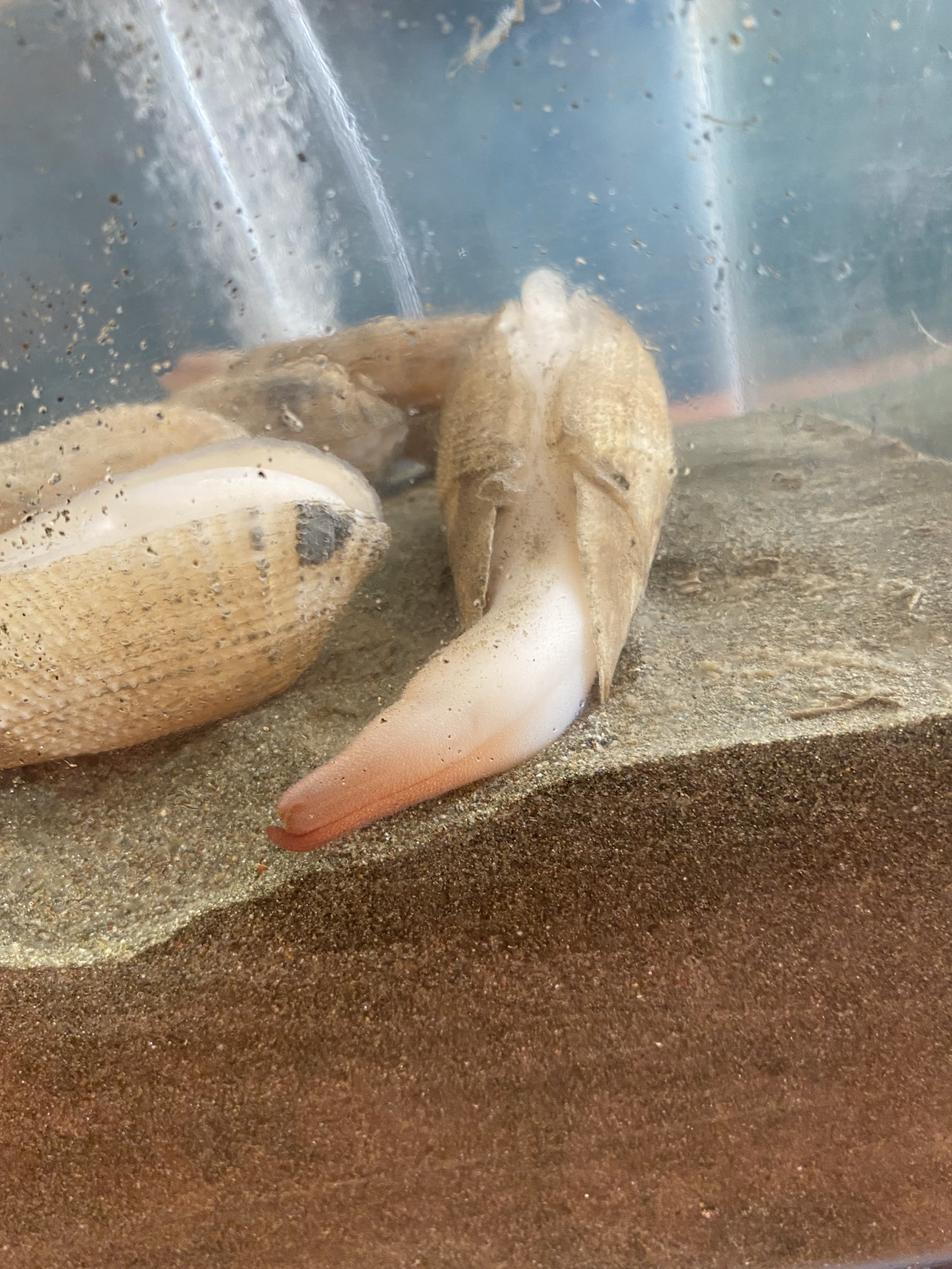Healthy: (269, 270, 675, 851), (445, 501, 611, 765)
